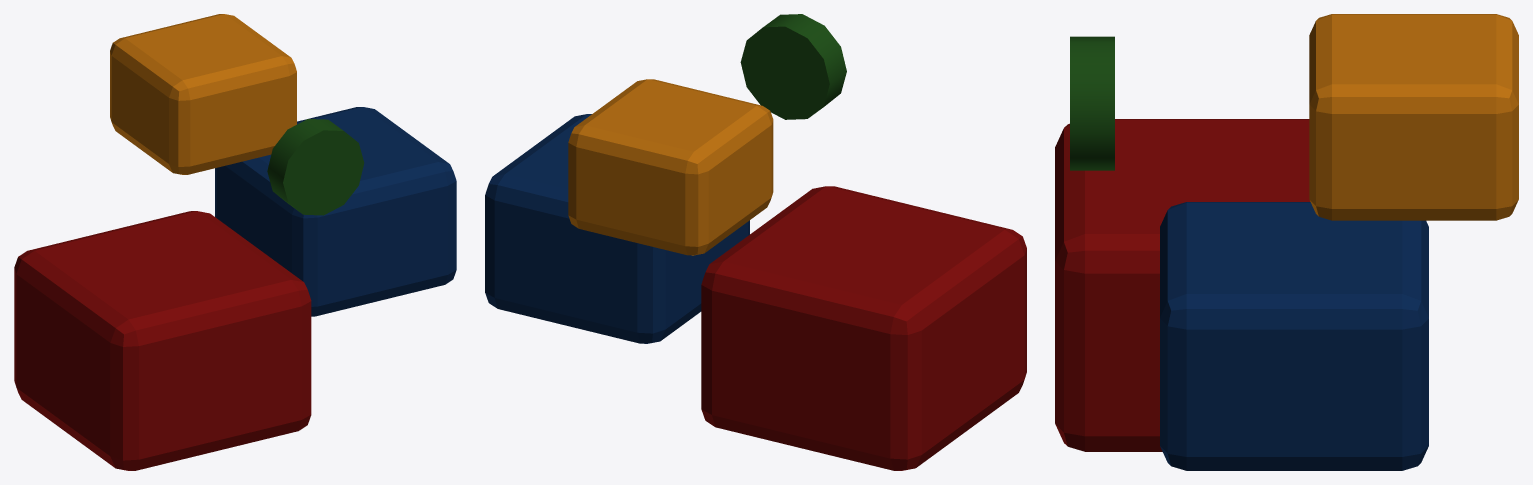
File: ToyBlocks.fbx
The picture shows the model from 3 angles, left to right: view 1: azimuth 30°, elevation 25°; view 2: azimuth 150°, elevation 25°; view 3: azimuth 270°, elevation 25°; orthographic projection. The views are drawn at different scales.
Parts seen in each view (by area): view 1: ToyBlocks; view 2: ToyBlocks; view 3: ToyBlocks.
Boxes of the visible parts, box(x1,y1,x2,y2) form: ToyBlocks: box(14, 14, 456, 470); ToyBlocks: box(485, 14, 1026, 470); ToyBlocks: box(1055, 14, 1518, 470).
Size of the model in its own units: 42 by 31 by 31.5.
